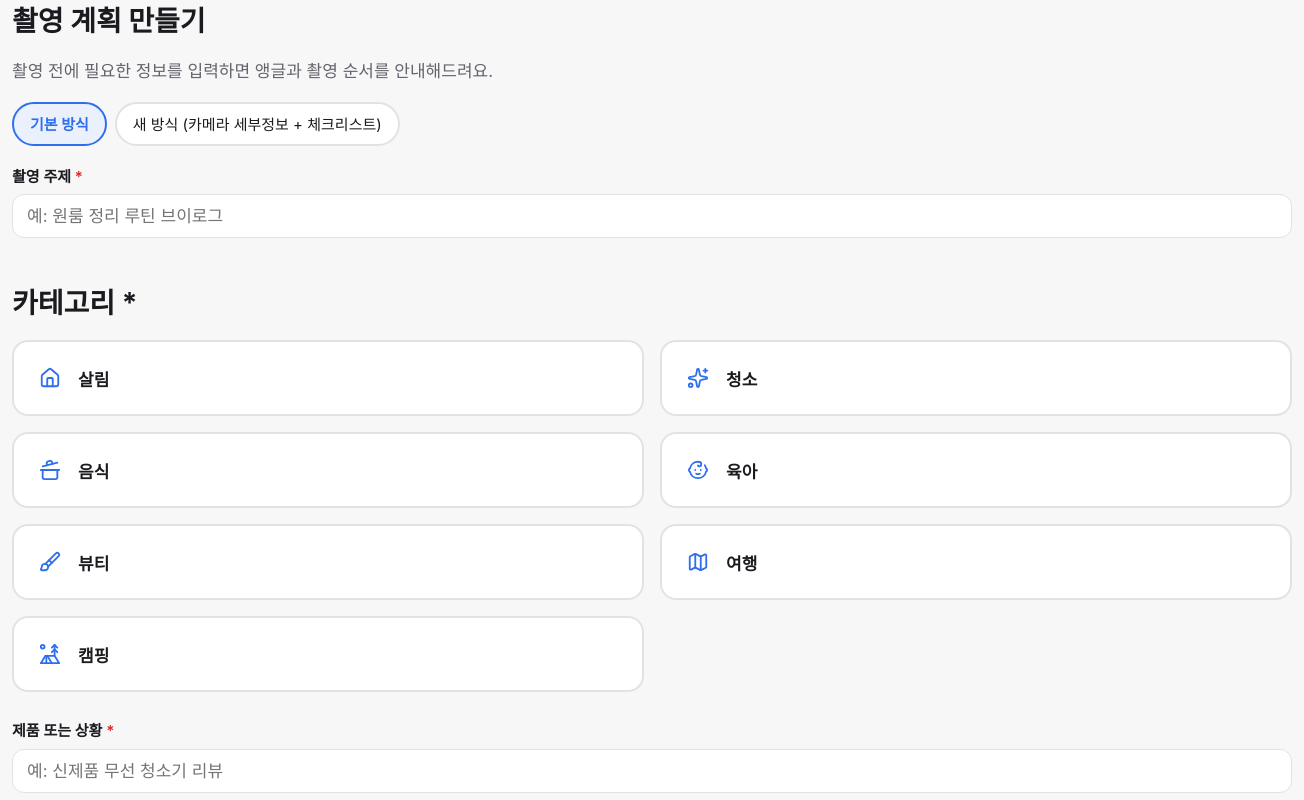
Test: ShootingGuideScreen - 새 방식(v2) › "새 방식" 버튼을 누르면 v2 폼으로 전환된다
Click the button "새 방식 (카메라 세부정보 + 체크리스트)": (257, 124) [115, 102, 400, 146]
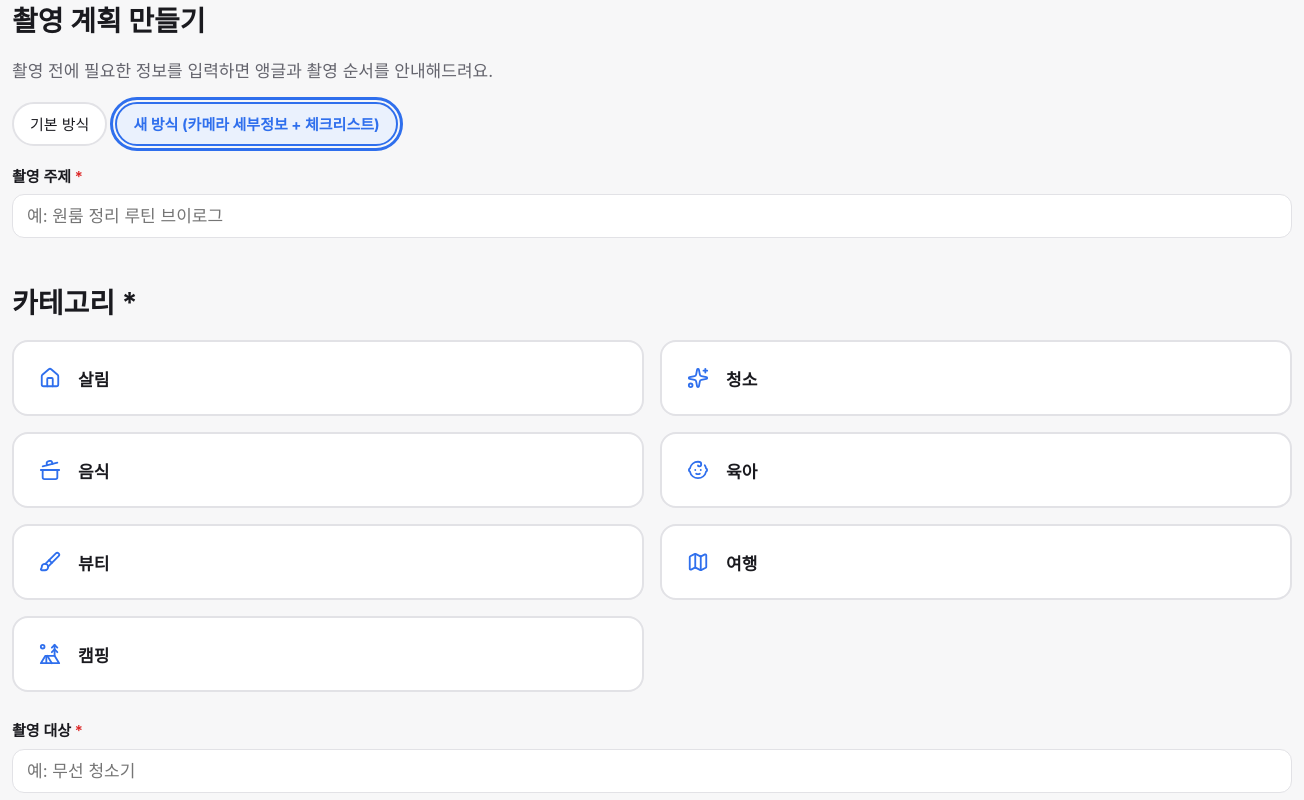
Expected: the field labelled "촬영 대상 *" is shown, [12, 748, 1292, 792]
Expected: the label labelled "제품 또는 상황" is gone
